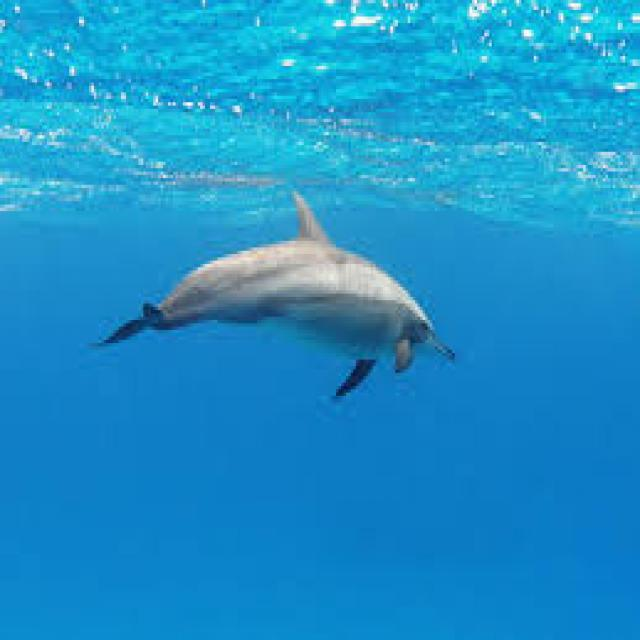dolphin: (94, 188, 506, 468)
